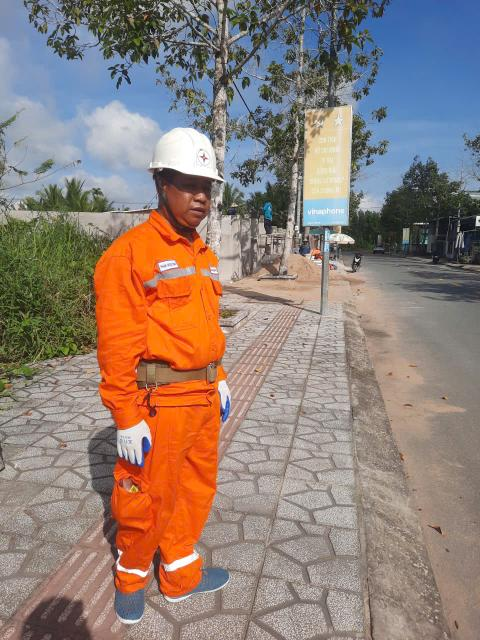gloves: (113, 421, 158, 473), (213, 368, 243, 428)
harness: (123, 348, 230, 394)
helmet: (149, 118, 233, 193)
shoes: (161, 549, 236, 604), (105, 570, 165, 631)
